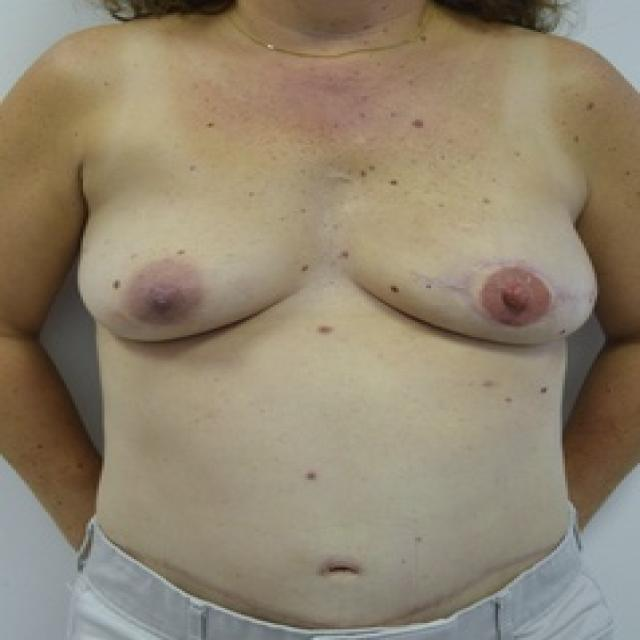Seno herido: (337, 148, 610, 364)
Seno ileso: (67, 148, 329, 364)
